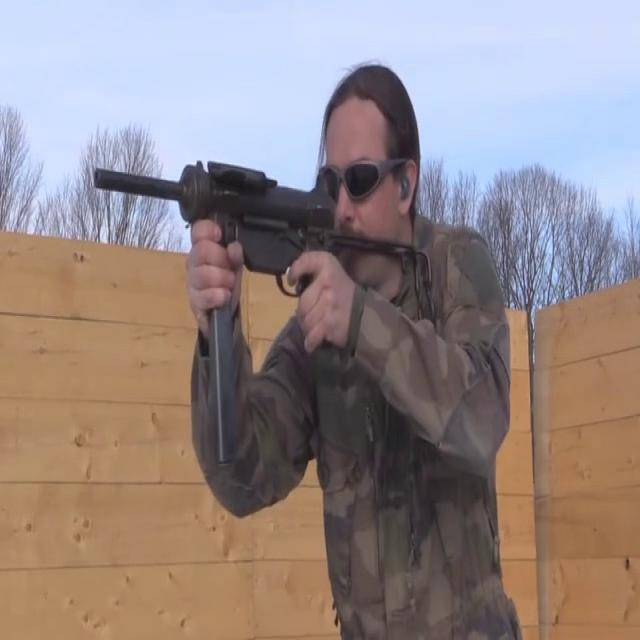gun-knife-thesis - v11 Yolov5 augmented: (83, 138, 385, 402)
